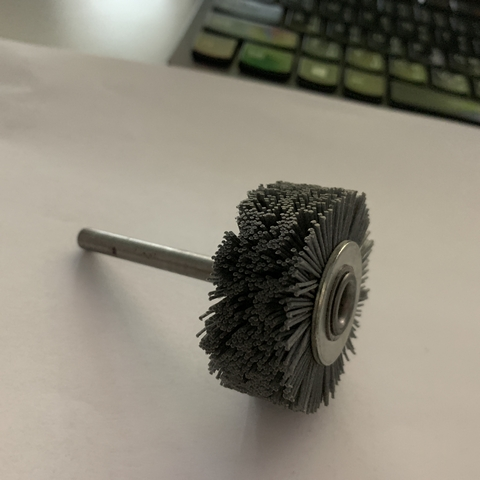Wheel Brush: (70, 164, 383, 436), (128, 153, 378, 442), (72, 179, 377, 411), (78, 199, 383, 414)
